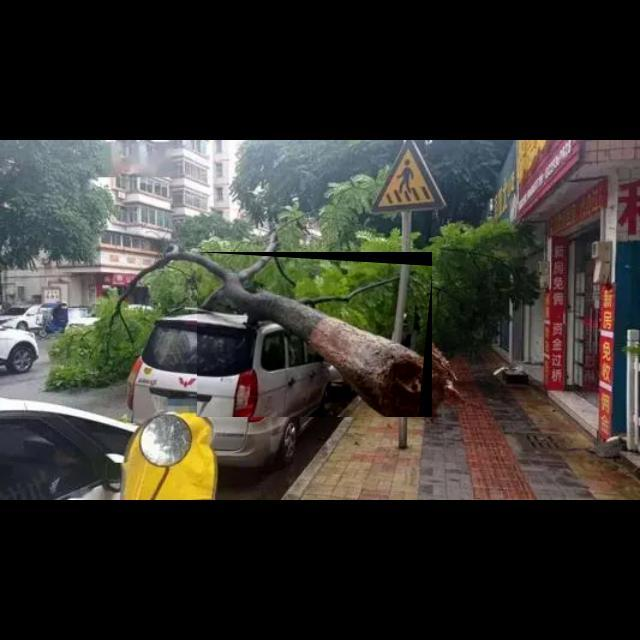fallen_tree: (197, 252, 433, 418)
